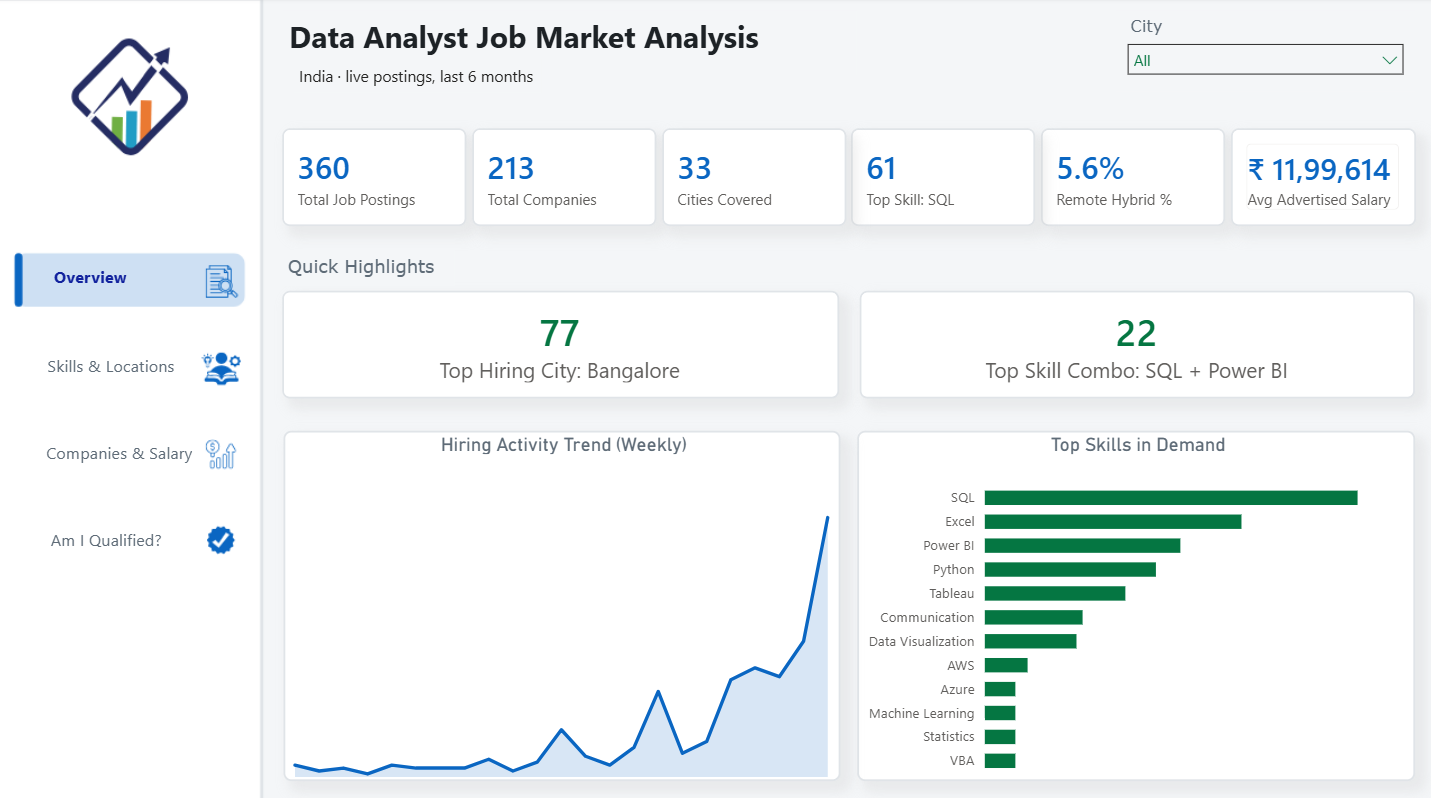

Layout of this report page (visuals, bound fields, positions):
{"tool":"powerbi","page":{"name":"Overview","canvas":[1280,720],"ordinal":0},"visuals":[{"type":"cardVisual","fields":{"Data":["_Measures.Remote Hybrid Percentage"]},"box":[930.6,116.6,164,87.1],"z":0},{"type":"cardVisual","fields":{"Data":["_Measures.Top Skill Count"]},"box":[761.7,116.6,164,87],"z":1000},{"type":"cardVisual","fields":{"Data":["_Measures.Avg Advertised Salary"]},"box":[1099.4,116.6,164.4,87.1],"z":2000},{"type":"cardVisual","fields":{"Data":["_Measures.Total Job Postings"]},"box":[255.2,116.6,164,87],"z":3000},{"type":"cardVisual","fields":{"Data":["_Measures.Total Companies"]},"box":[424.1,116.6,164,87],"z":4000},{"type":"cardVisual","fields":{"Data":["_Measures.Cities Covered"]},"box":[592.9,116.6,164,87],"z":5000},{"type":"clusteredBarChart","title":"Top Skills in Demand","fields":{"Category":["skills_unpivoted.Skill"],"Y":["CountNonNull(skills_unpivoted.Skill)"]},"box":[766.9,386.5,496.9,311.7],"z":6000},{"type":"lineChart","title":"Hiring Activity Trend (Weekly)","fields":{"Category":["job_data.posted_week"],"Y":["_Measures.Weekly Job Count"]},"box":[256.4,386.5,495.7,311.7],"z":7000},{"type":"cardVisual","fields":{"Data":["_Measures.Top City Jobs"]},"box":[255.2,261.4,495.7,96],"z":8000},{"type":"cardVisual","fields":{"Data":["_Measures.Top Combo Jobs"]},"box":[769.3,261.4,494.5,96],"z":9000},{"type":"textbox","box":[256.4,12.3,510.4,57.7],"z":10000},{"type":"textbox","box":[265,55.2,220.9,29.4],"z":11000},{"type":"actionButton","box":[36,224.4,96.9,46.6],"z":12000},{"type":"actionButton","box":[36,309.3,133.7,36.8],"z":13000},{"type":"actionButton","box":[36,386,148.5,36.8],"z":14000},{"type":"actionButton","box":[36,464,125.2,36.8],"z":15000},{"type":"slicer","fields":{"Values":["job_data.location"]},"box":[997.6,12.3,266.3,72.4],"z":16000},{"type":"textbox","box":[255.2,224.5,153.4,33.1],"z":17000}]}

Visuals, with their boxes on the page's 1280x720 design canvas (x1, y1, x2, y2). These are canvas units, not pixel positions in the 1431x798 screenshot, which may show the page scaled, cropped or inside an application window:
cardVisual - _Measures.Remote Hybrid Percentage: [931, 117, 1095, 204]
cardVisual - _Measures.Top Skill Count: [762, 117, 926, 204]
cardVisual - _Measures.Avg Advertised Salary: [1099, 117, 1264, 204]
cardVisual - _Measures.Total Job Postings: [255, 117, 419, 204]
cardVisual - _Measures.Total Companies: [424, 117, 588, 204]
cardVisual - _Measures.Cities Covered: [593, 117, 757, 204]
"Top Skills in Demand" clusteredBarChart: [767, 386, 1264, 698]
"Hiring Activity Trend (Weekly)" lineChart: [256, 386, 752, 698]
cardVisual - _Measures.Top City Jobs: [255, 261, 751, 357]
cardVisual - _Measures.Top Combo Jobs: [769, 261, 1264, 357]
textbox: [256, 12, 767, 70]
textbox: [265, 55, 486, 85]
actionButton: [36, 224, 133, 271]
actionButton: [36, 309, 170, 346]
actionButton: [36, 386, 184, 423]
actionButton: [36, 464, 161, 501]
slicer - job_data.location: [998, 12, 1264, 85]
textbox: [255, 224, 409, 258]
